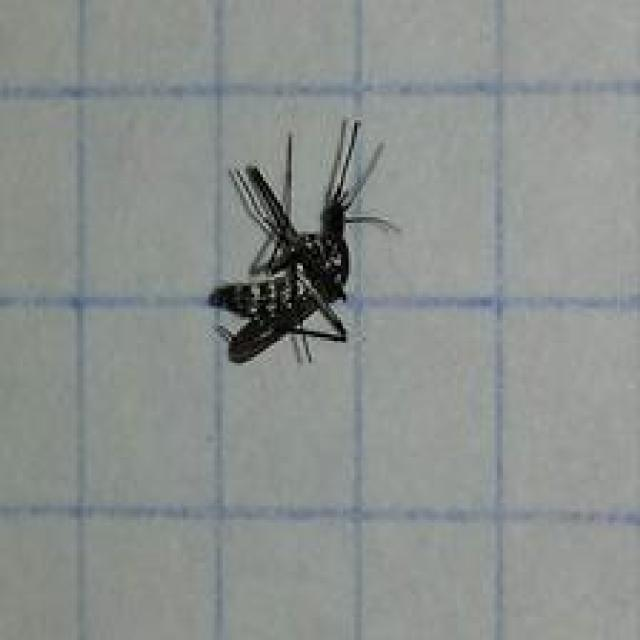Aedes albopictus: (207, 117, 402, 366)
